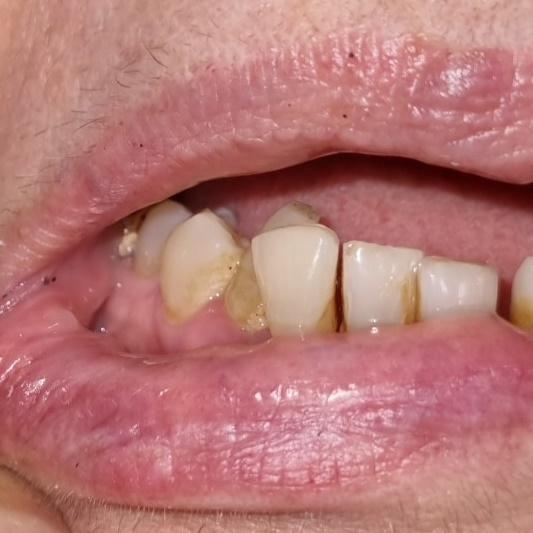Crowding: (190, 204, 339, 332)
